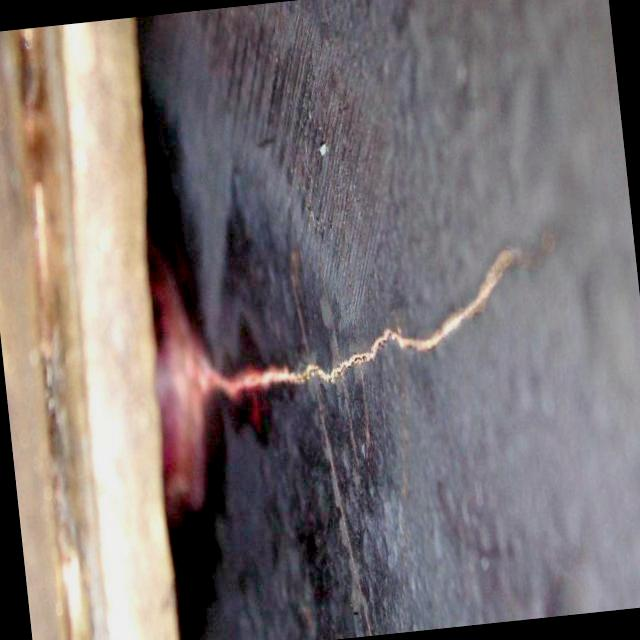defect: (194, 226, 560, 405)
